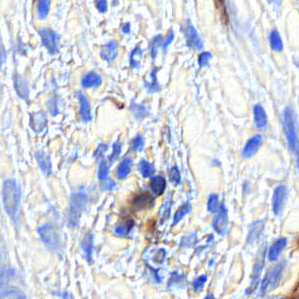Lymphocyte: (126, 191, 157, 217)
